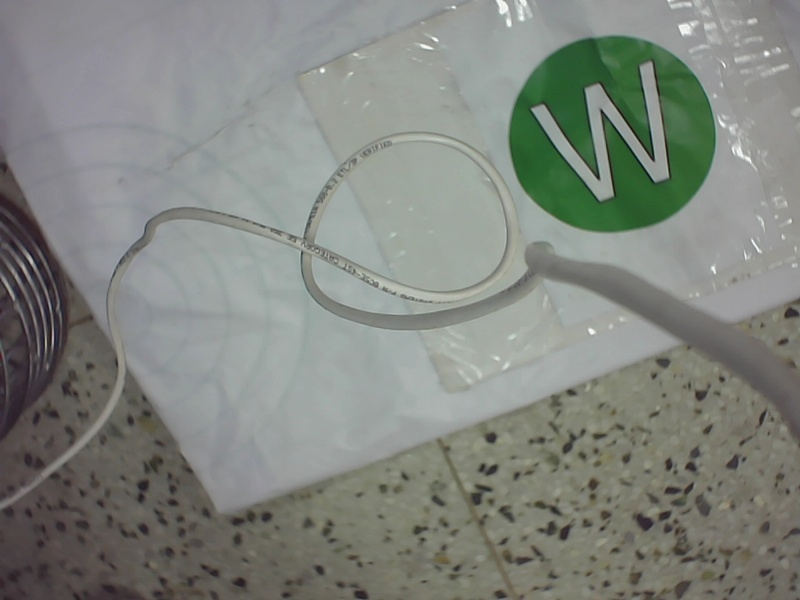areaB: (511, 26, 723, 236)
